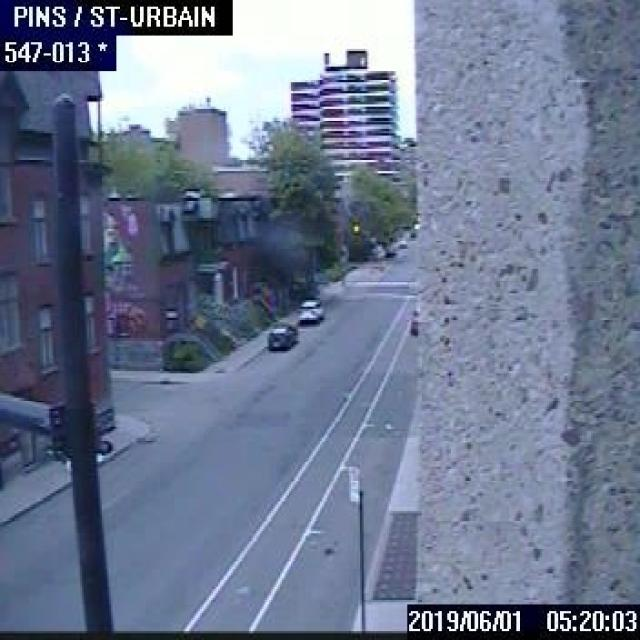vehicle: (267, 321, 296, 349), (296, 297, 322, 322), (409, 307, 416, 334), (397, 236, 406, 247)
